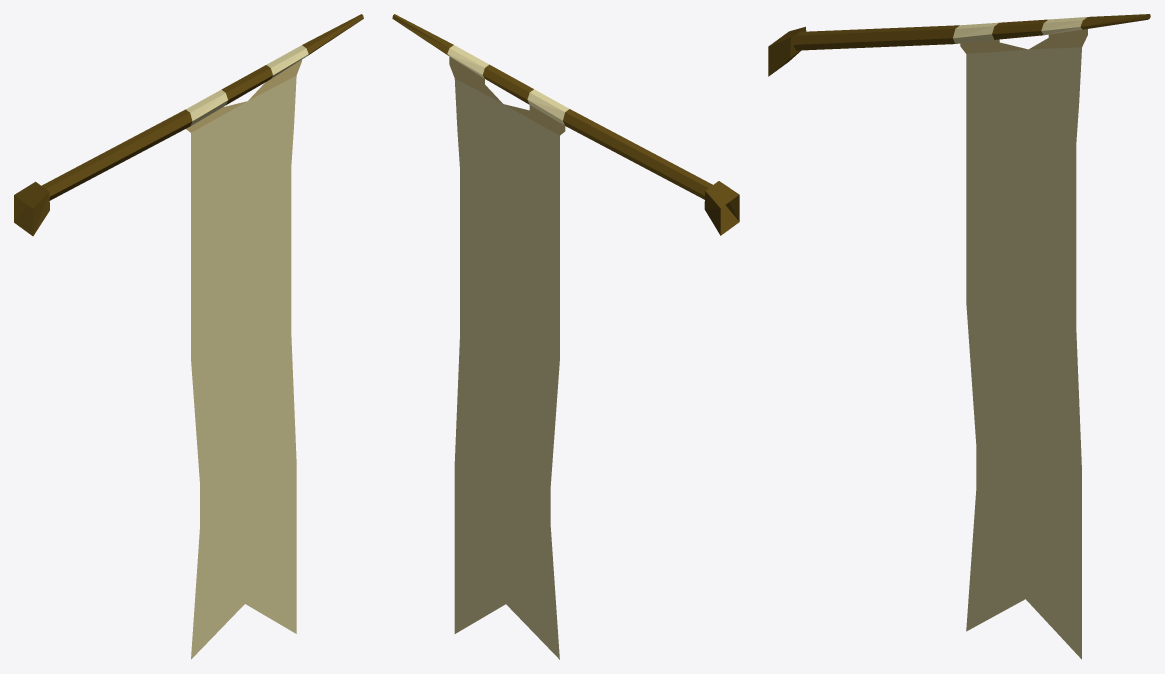
File: obj_entrance_2_0.obj
The picture shows the model from 3 angles, left to right: view 1: azimuth 30°, elevation 25°; view 2: azimuth 150°, elevation 25°; view 3: azimuth 330°, elevation 25°; orthographic projection. The views are drawn at different scales.
Size of the model in its own units: 2 by 3.42 by 0.1953.
